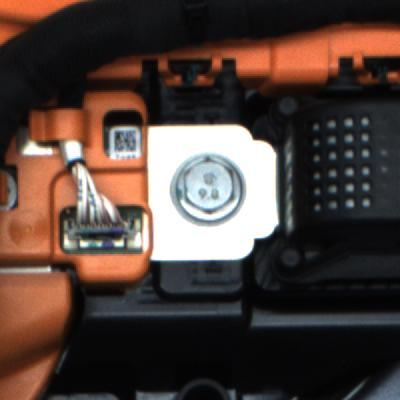nut_b: (160, 150, 247, 226)
